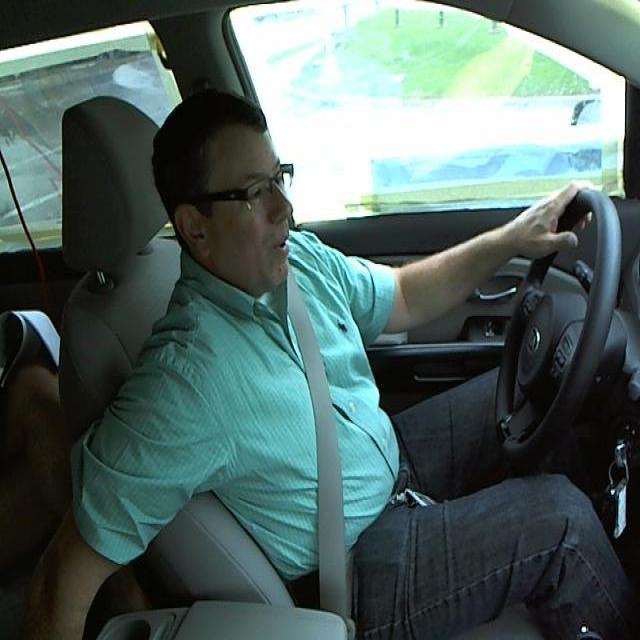seatbelt: (282, 303, 367, 609)
